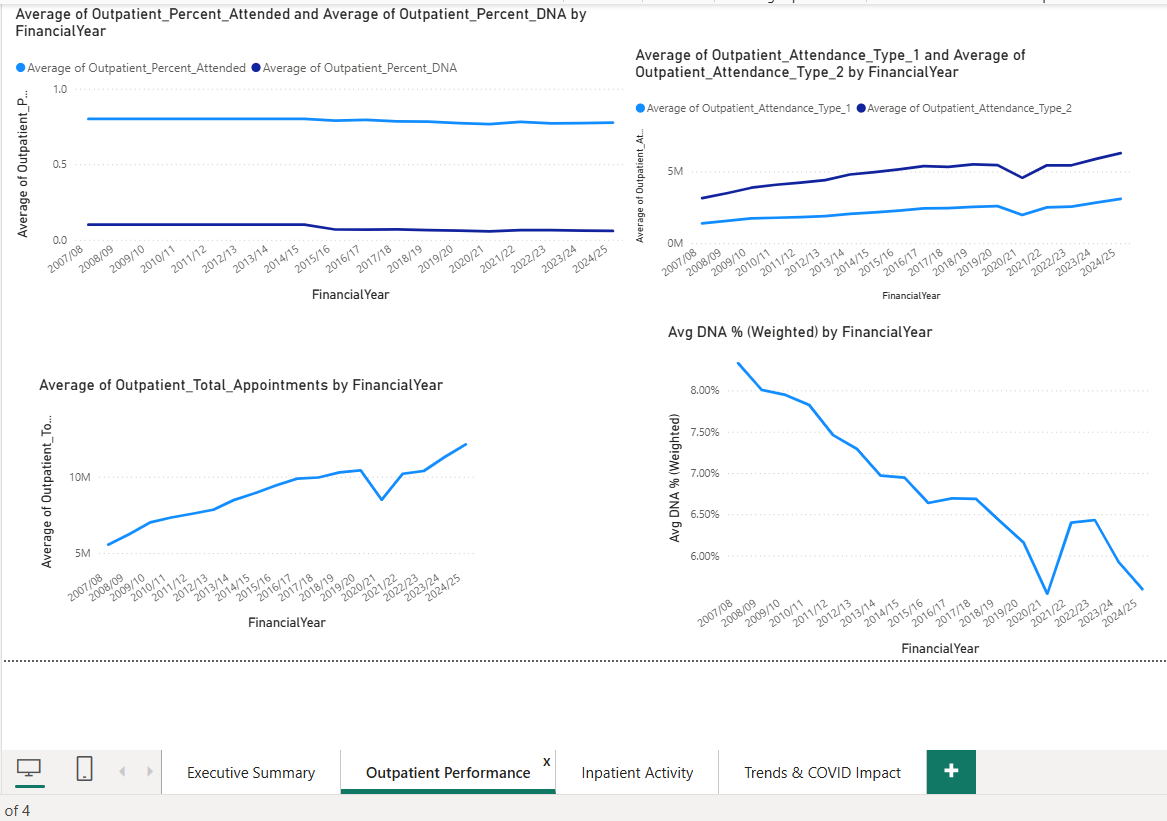

The page's visual inventory and layout, read from the dashboard file:
{"tool":"powerbi","page":{"name":"Outpatient Performance","canvas":[1280,720],"ordinal":1},"visuals":[{"type":"lineChart","fields":{"Y":["Avg(Fact_Consultation.Outpatient_Percent_Attended)","Avg(Fact_Consultation.Outpatient_Percent_DNA)"],"Category":["Dim_Date.FinancialYear"]},"box":[9.8,0,679.9,331.4],"z":0},{"type":"lineChart","fields":{"Y":["Avg(Fact_Consultation.Outpatient_Total_Appointments)"],"Category":["Dim_Date.FinancialYear"]},"box":[35.5,407.2,487.9,284.9],"z":1000},{"type":"lineChart","fields":{"Y":["Avg(Fact_Consultation.Outpatient_Attendance_Type_1)","Avg(Fact_Consultation.Outpatient_Attendance_Type_2)"],"Category":["Dim_Date.FinancialYear"]},"box":[689.7,45.2,553.9,286.1],"z":2000},{"type":"lineChart","fields":{"Category":["Dim_Date.FinancialYear"],"Y":["Fact_Consultation.Avg DNA % (Weighted)"]},"box":[726.4,349.7,541.7,370.5],"z":3001}]}

Visuals, with their boxes on the page's 1280x720 design canvas (x1, y1, x2, y2). These are canvas units, not pixel positions in the 1167x821 screenshot, which may show the page scaled, cropped or inside an application window:
lineChart - Avg(Fact_Consultation.Outpatient_Percent_Attended) x Avg(Fact_Consultation.Outpatient_Percent_DNA): (10,0,690,331)
lineChart - Avg(Fact_Consultation.Outpatient_Total_Appointments) x Dim_Date.FinancialYear: (36,407,523,692)
lineChart - Avg(Fact_Consultation.Outpatient_Attendance_Type_1) x Avg(Fact_Consultation.Outpatient_Attendance_Type_2): (690,45,1244,331)
lineChart - Dim_Date.FinancialYear x Fact_Consultation.Avg DNA % (Weighted): (726,350,1268,720)
